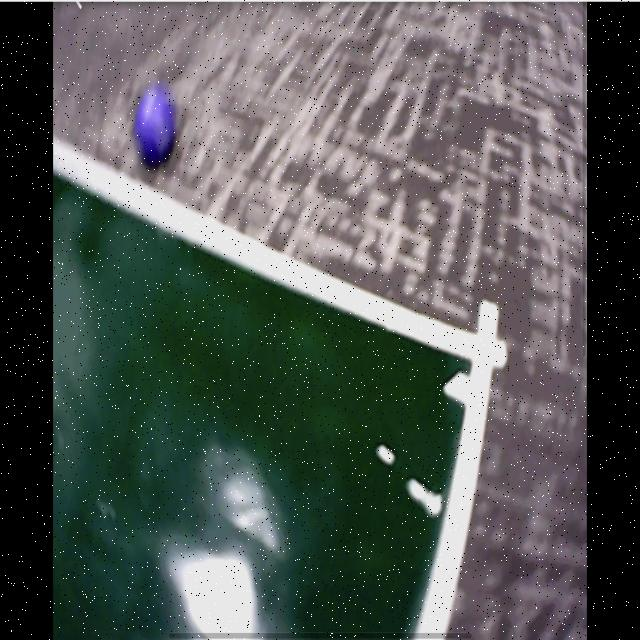ball: (135, 89, 177, 163)
